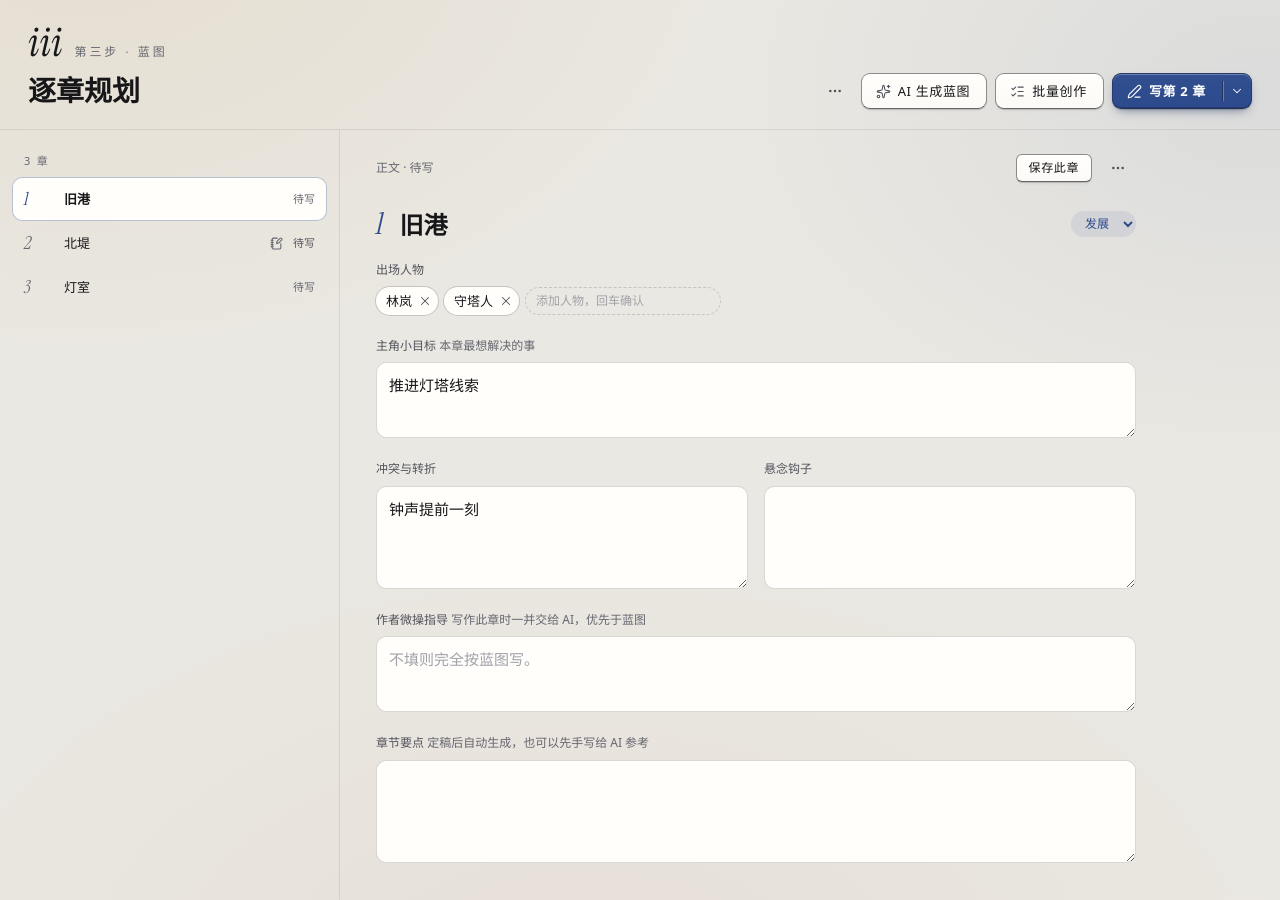
Test case: 蓝图阶段 › 清空全部蓝图在危险分组里，确认前不清空，确认后列表为空并出现空状态
Click the button named "更多蓝图操作". click: point(835, 91)
box: [817, 73, 853, 109]
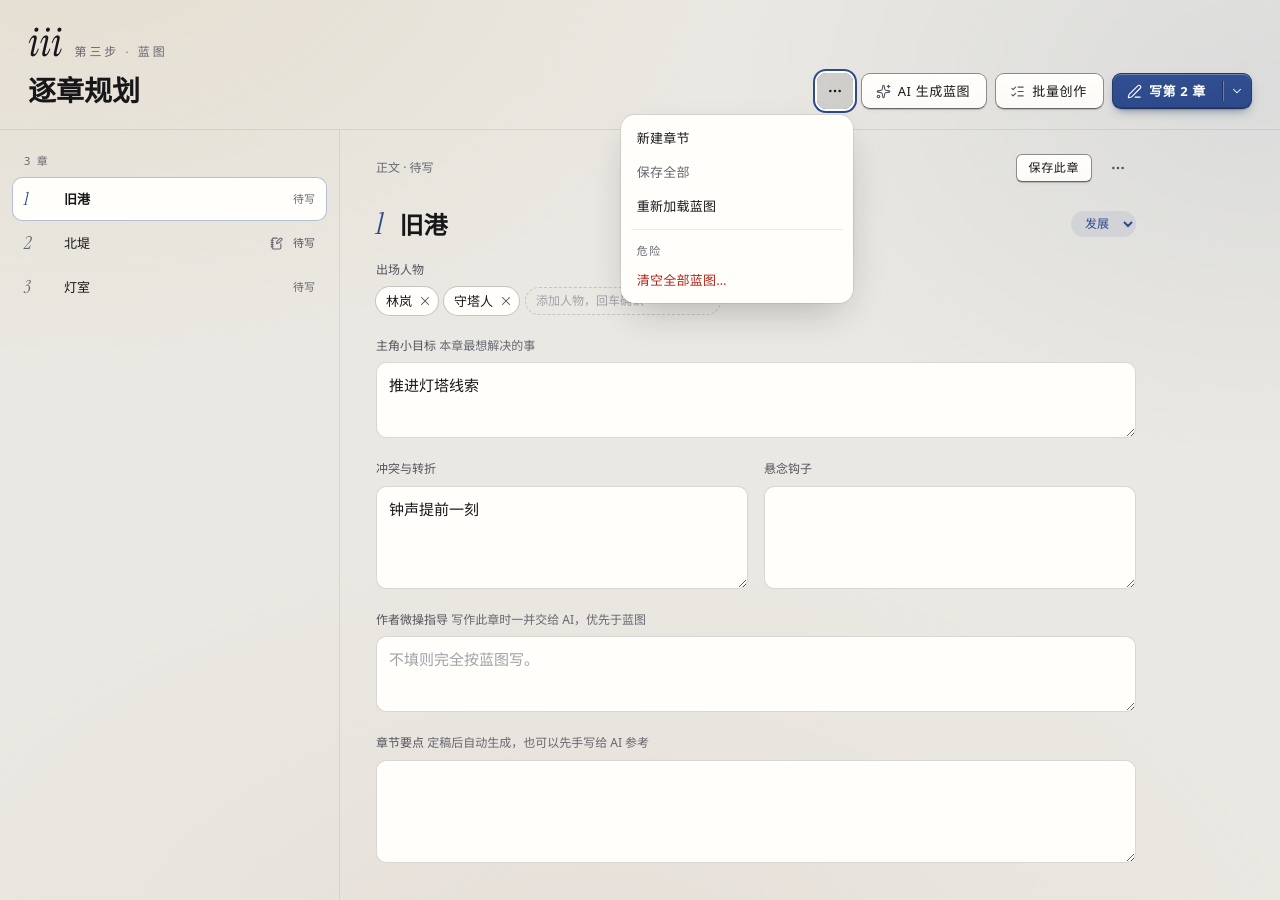
Click the menu item "清空全部蓝图…". click: point(737, 280)
box: [627, 263, 847, 297]
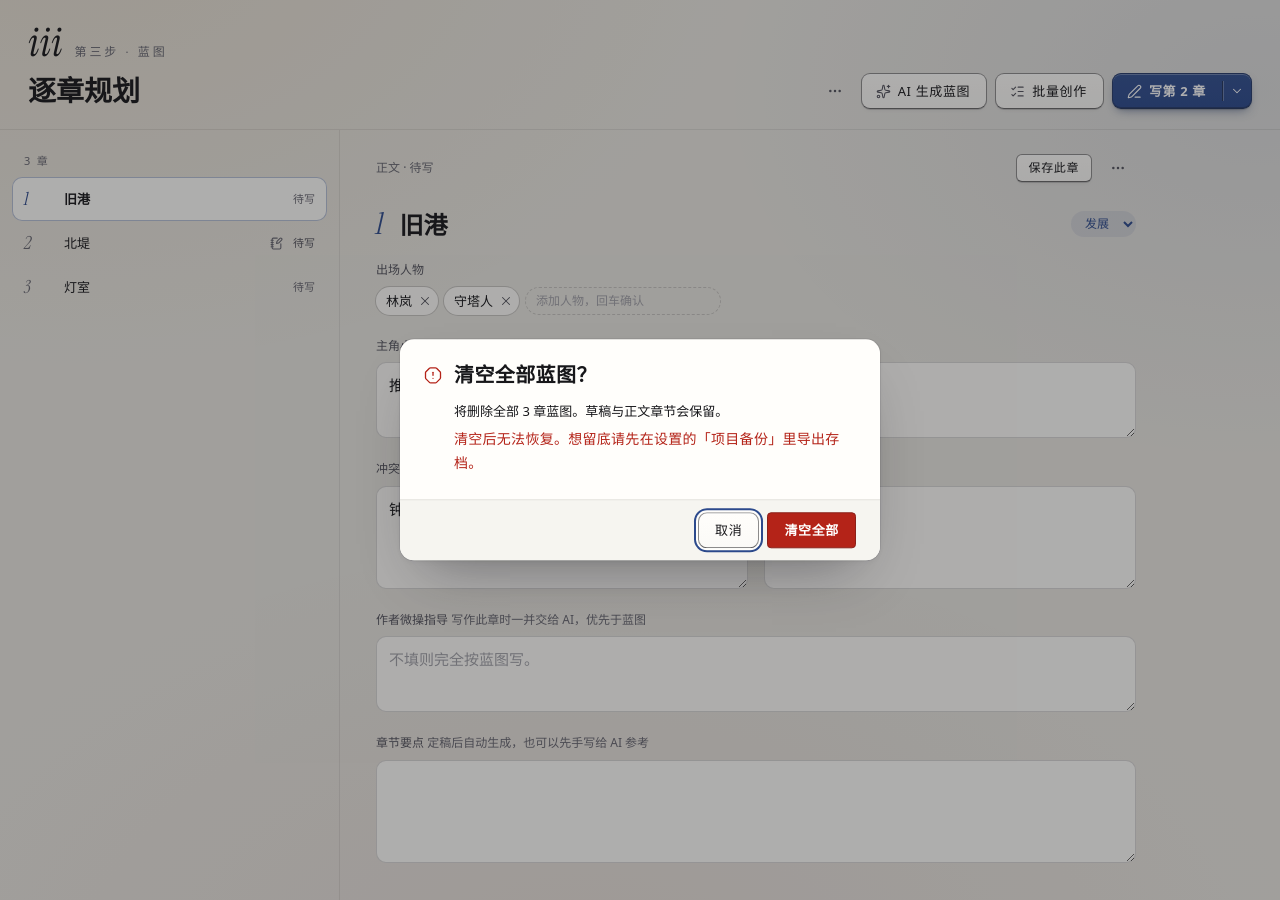
Expected: the dialog "清空全部蓝图？" shows "将删除全部 3 章蓝图", [454, 402, 728, 420]
Click the button "取消". click: point(729, 531)
box: [698, 513, 759, 549]
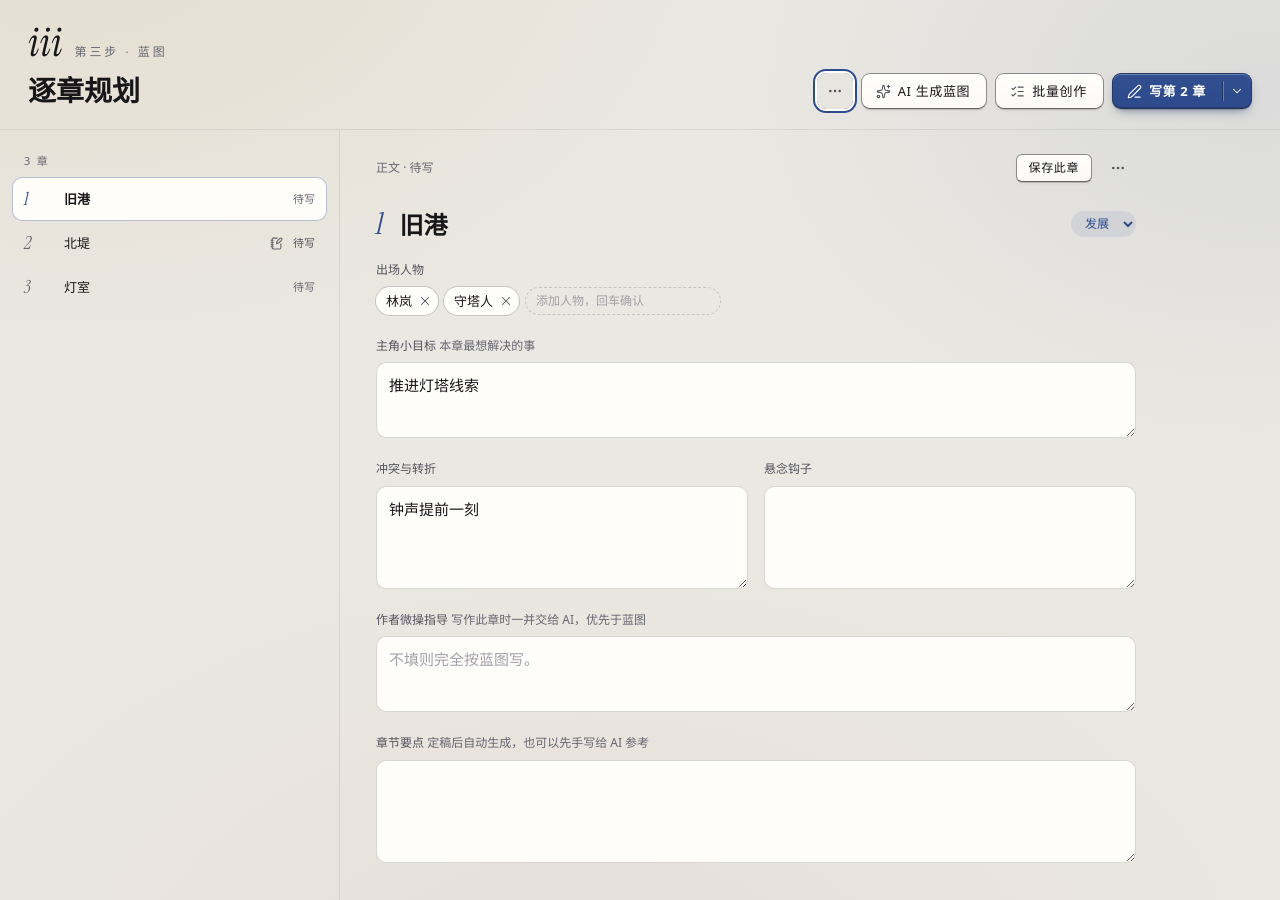
Expected: the button "1 旧港 待写" is shown, [12, 177, 327, 221]
Click the button named "更多蓝图操作". click: point(835, 91)
box: [817, 73, 853, 109]
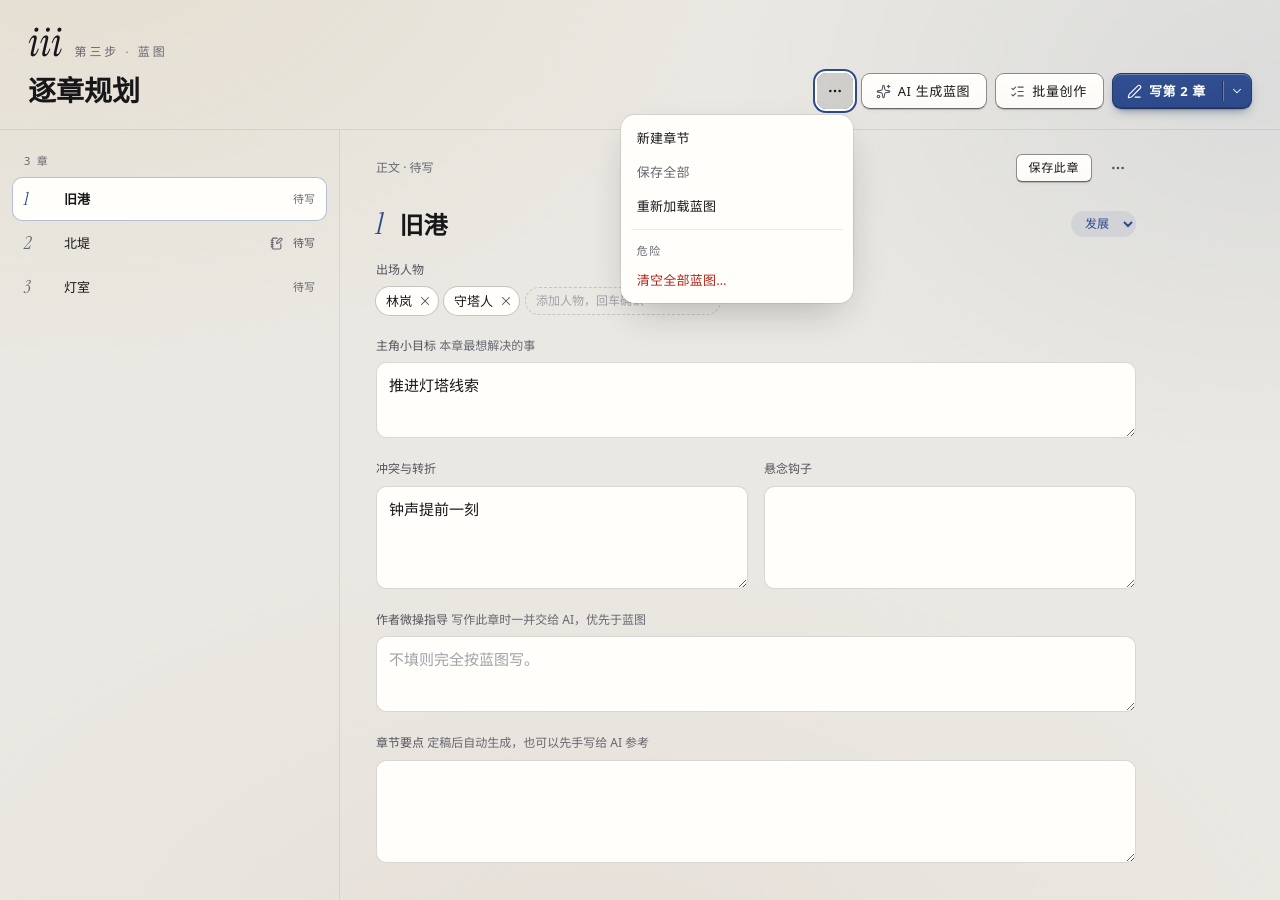
Click the menu item "清空全部蓝图…". click: point(737, 280)
box: [627, 263, 847, 297]
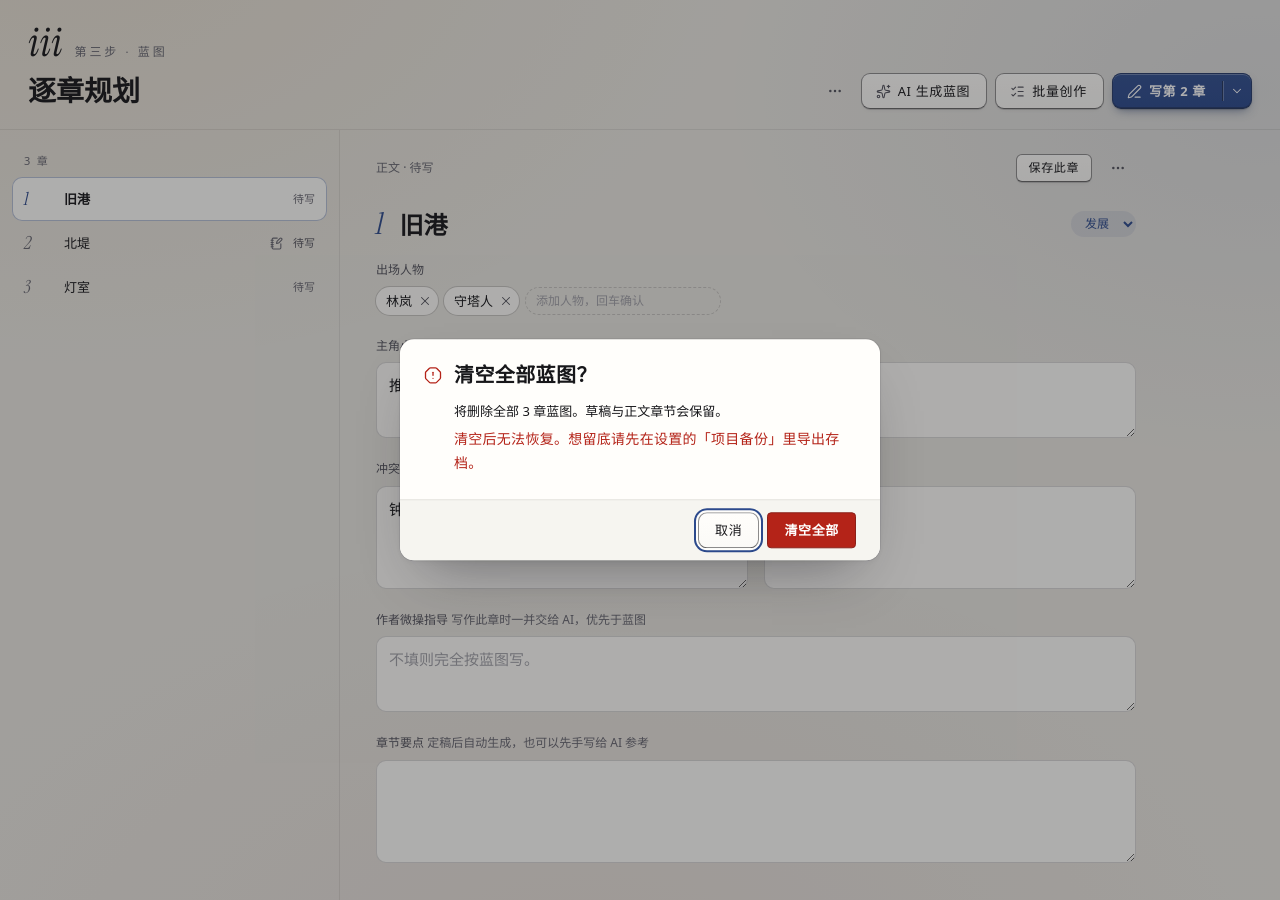
Click the button "清空全部". click: point(812, 531)
box: [767, 513, 856, 549]
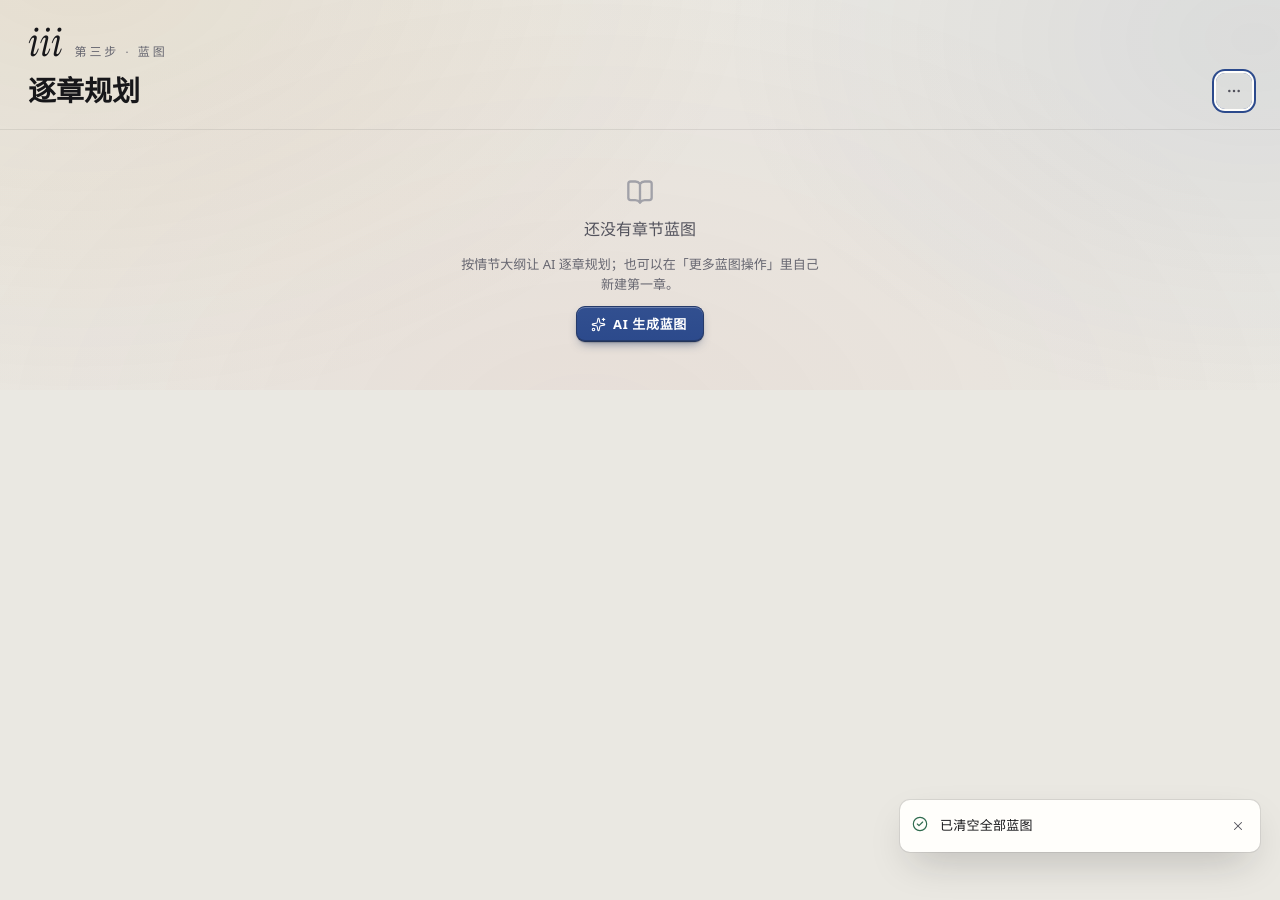
Expected: the heading "还没有章节蓝图" is shown, [584, 218, 696, 242]
